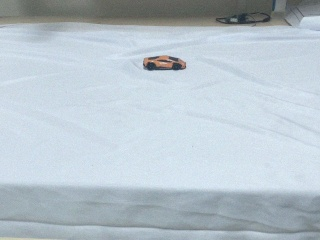toy_car: (142, 54, 187, 71)
